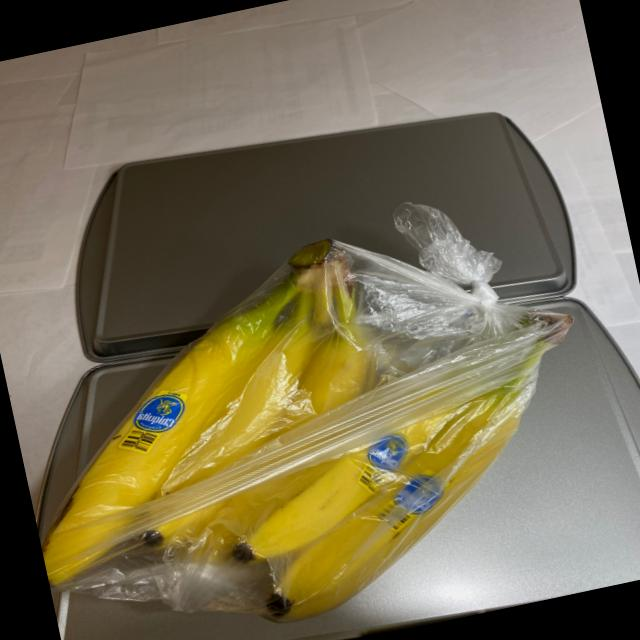banana: (0, 185, 622, 640)
